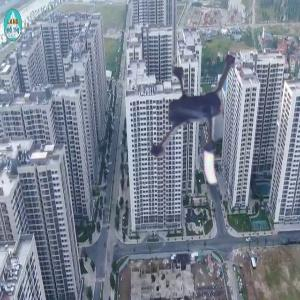drone: (119, 47, 277, 205)
